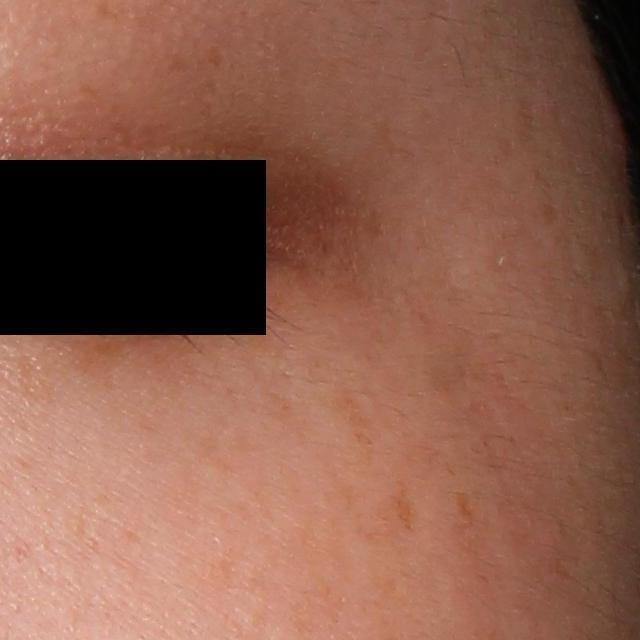melasma: (325, 384, 389, 470), (389, 471, 420, 537), (449, 490, 476, 529), (203, 40, 222, 67)
